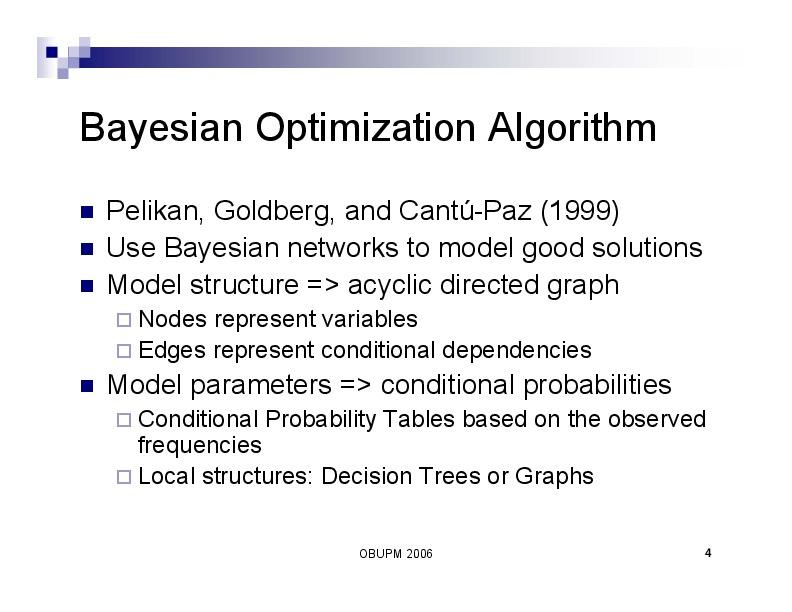paragraph: (104, 189, 738, 518)
title: (77, 105, 667, 151)
